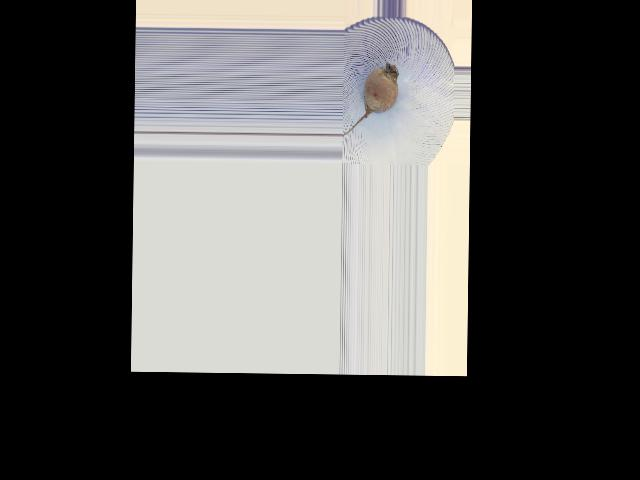beet: (341, 61, 398, 136)
